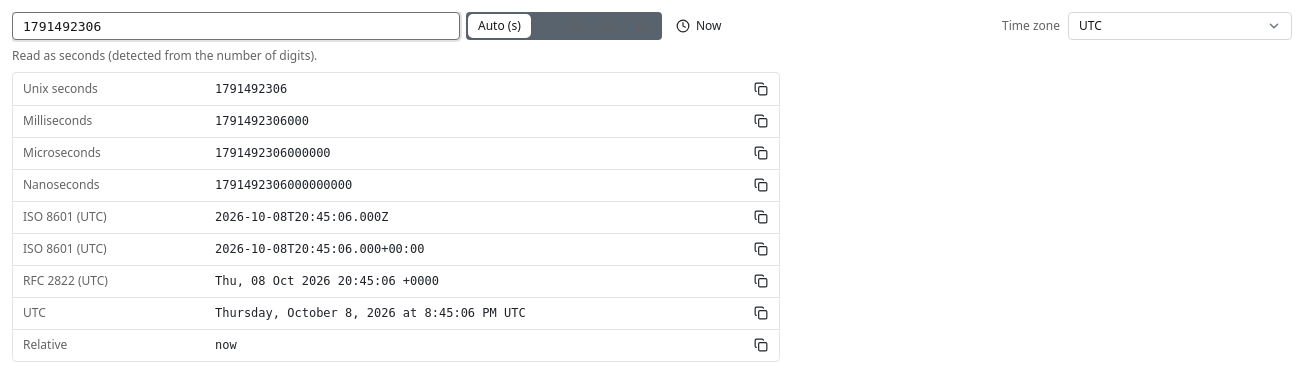
Test: TimestampConverter › shows an error for unparseable input
Replace the text in the field named "Timestamp or date" with "nope" at (236, 26), box [12,12,460,40]
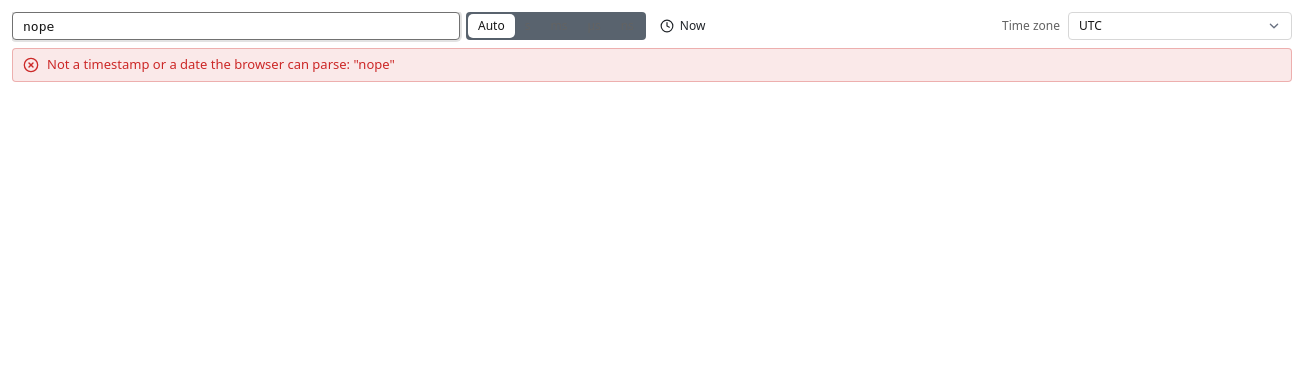
Expected: the message shows "Not a timestamp", [47,55,395,73]
